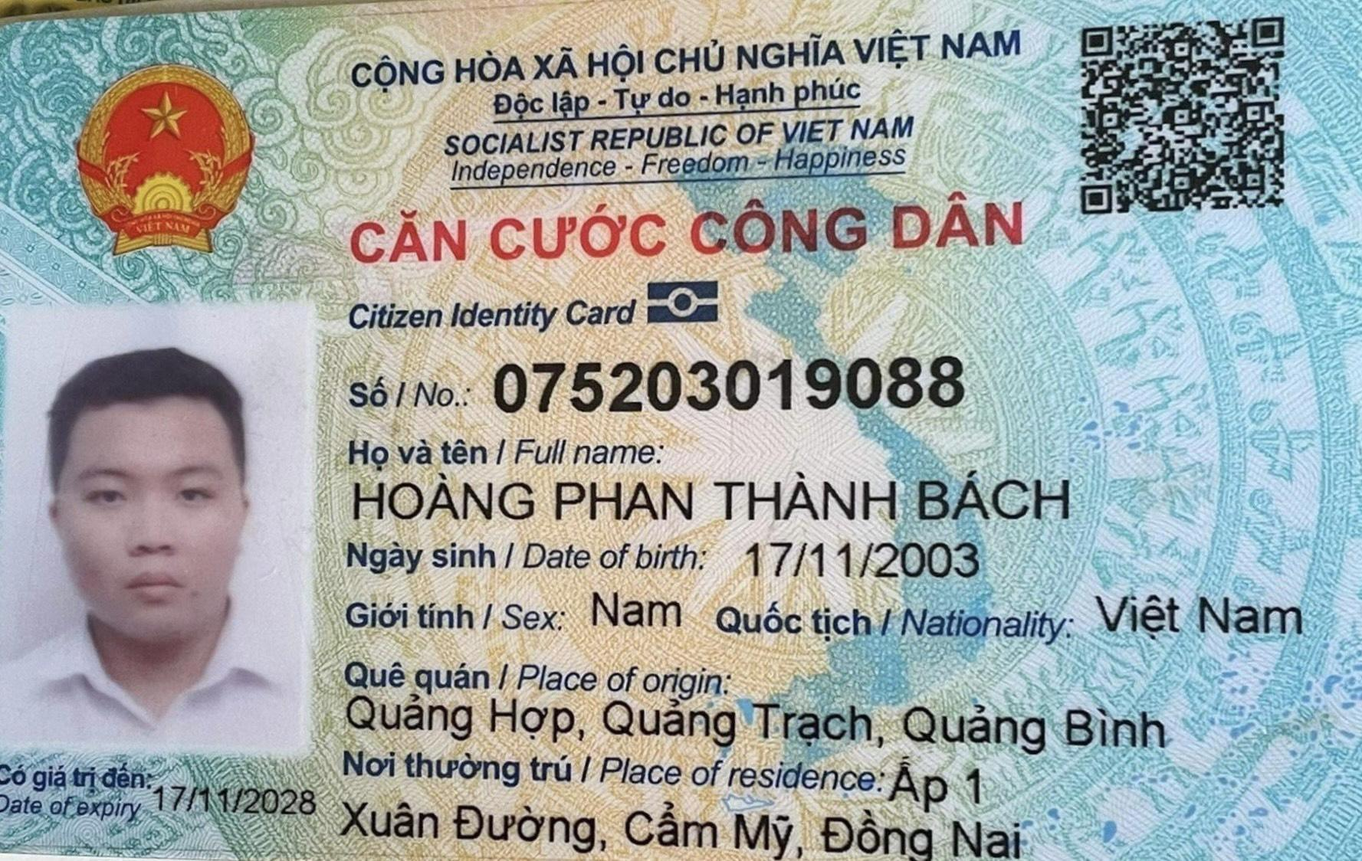ID: (489, 343, 978, 422)
birth: (742, 539, 996, 586)
name: (339, 464, 1080, 531)
place: (330, 686, 1185, 757)
residence: (327, 790, 1035, 860), (887, 757, 998, 816)
